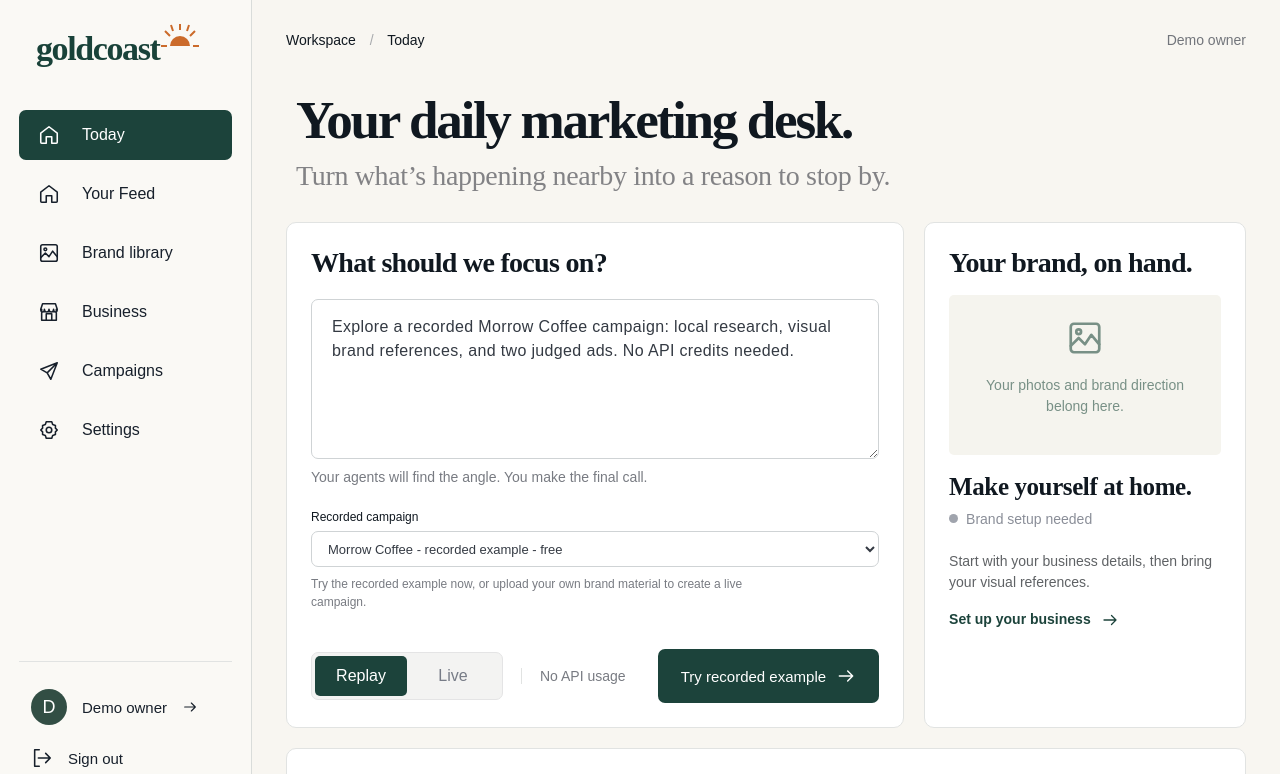
Test: marketing workspace › discovers a phone campaign while idle without reloading the website
Click the button "Campaigns": (126, 371) [19,346,232,396]
Wait 3000 ms
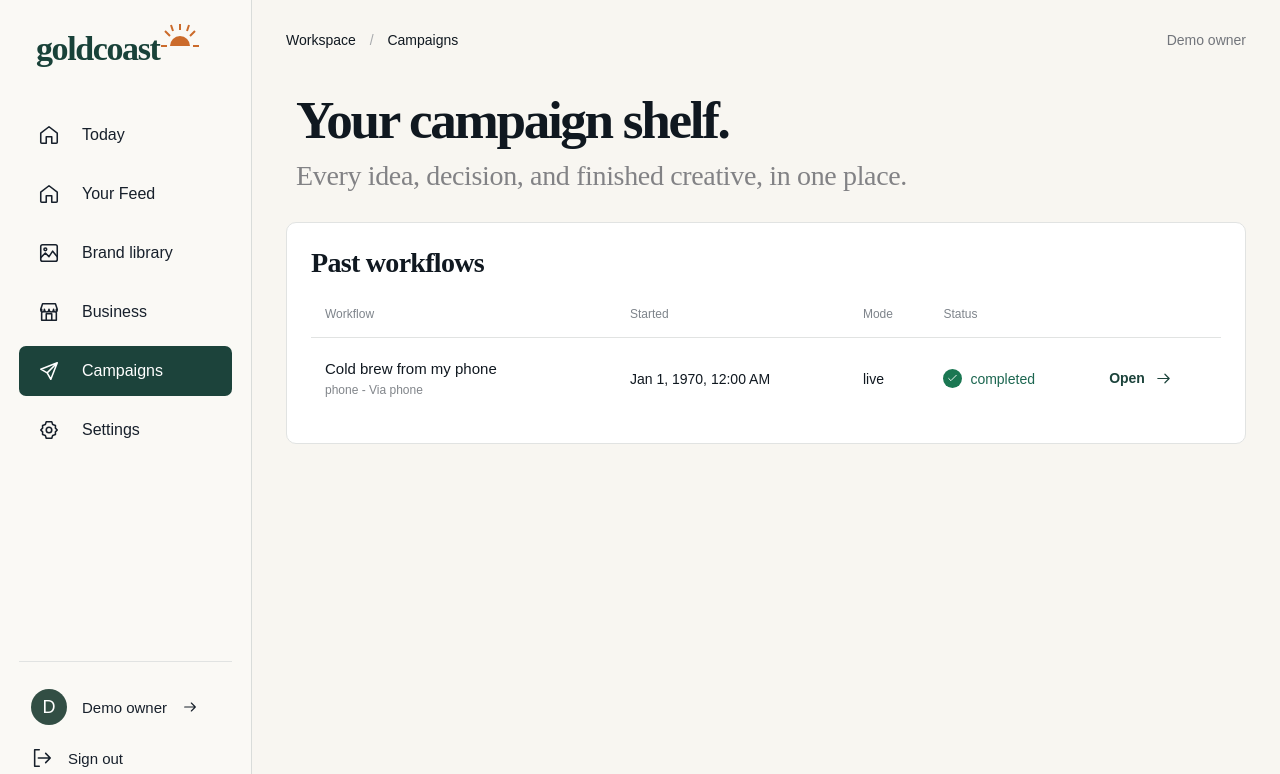
Now the text "Cold brew from my phone" is shown, box [325,360,497,377]
Now the text "phone - Via phone" is shown, box [325,383,423,397]
